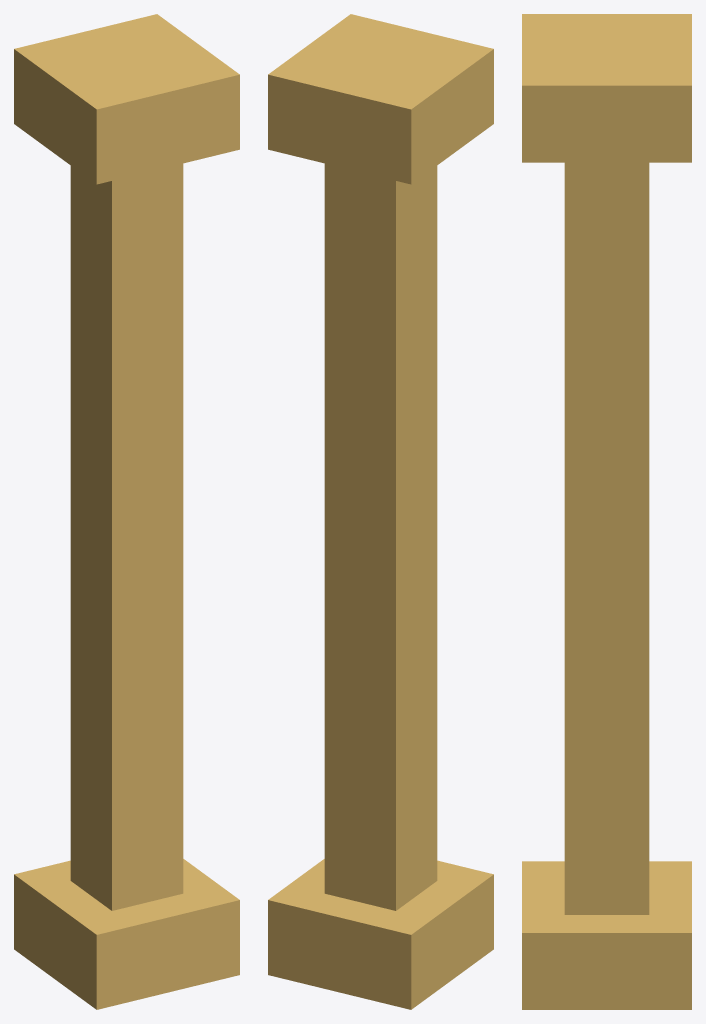
File: Pillar.fbx
3 renders of one model, left to right at view 1: azimuth 30°, elevation 25°; view 2: azimuth 150°, elevation 25°; view 3: azimuth 270°, elevation 25°, orthographic. The views are drawn at different scales.
Visible parts, largest first — view 1: Full pillar; view 2: Full pillar; view 3: Full pillar.
Boxes of the visible parts, x1,y1,x2,y2 form: Full pillar: (14, 14, 239, 1009); Full pillar: (268, 14, 493, 1009); Full pillar: (522, 14, 691, 1009).
Bounding box in the file's own units: 200 × 1200 × 200.
